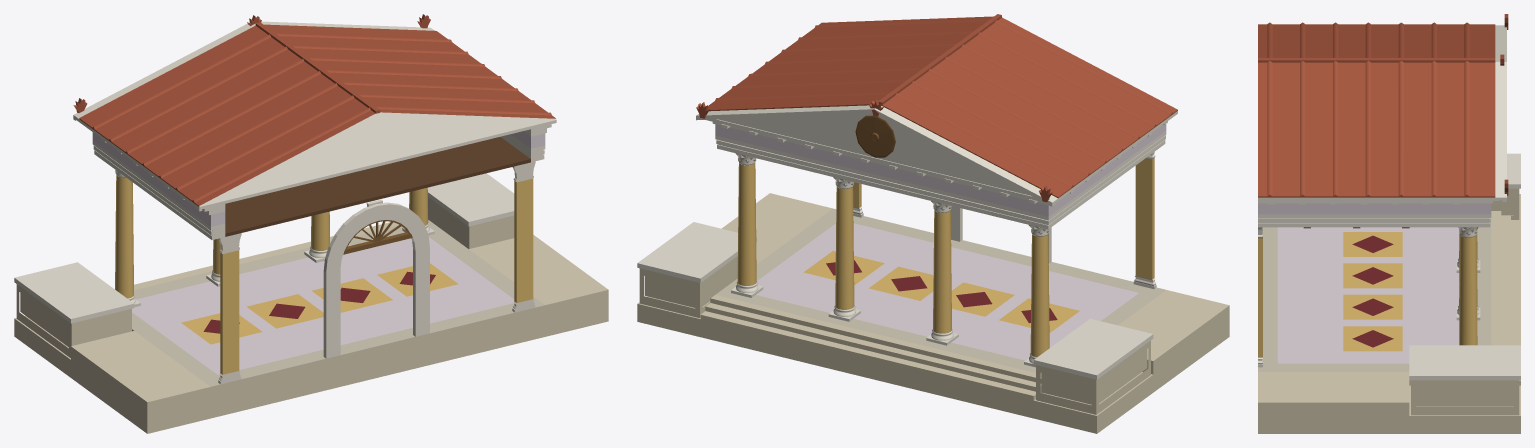
File: rome_tib_gate_n.glb
The picture shows the model from 3 angles, left to right: view 1: azimuth 30°, elevation 25°; view 2: azimuth 150°, elevation 25°; view 3: azimuth 270°, elevation 25°; orthographic projection.
Visible parts, largest first — view 1: shell; view 2: shell; view 3: shell.
Part boxes in pixels (x1,y1,x2,y2): shell: [14, 14, 608, 433]; shell: [637, 14, 1229, 433]; shell: [1258, 14, 1520, 433].
Size of the model in its own units: 16 by 9 by 8.
